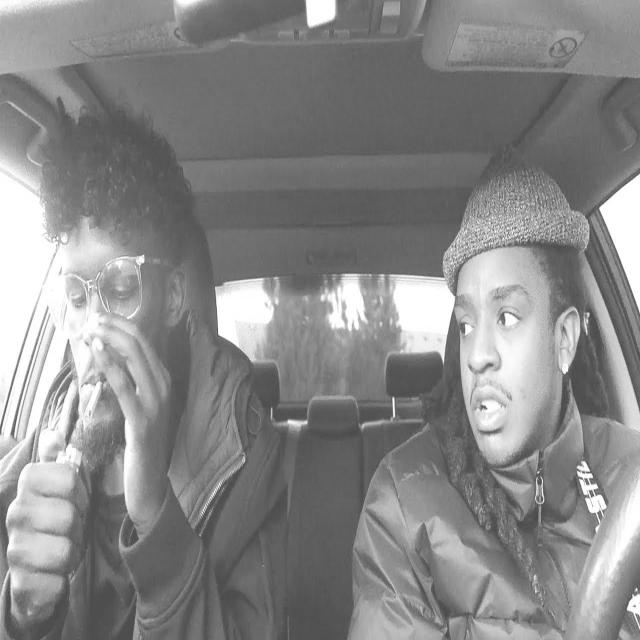Cigarette: (83, 375, 111, 429)
